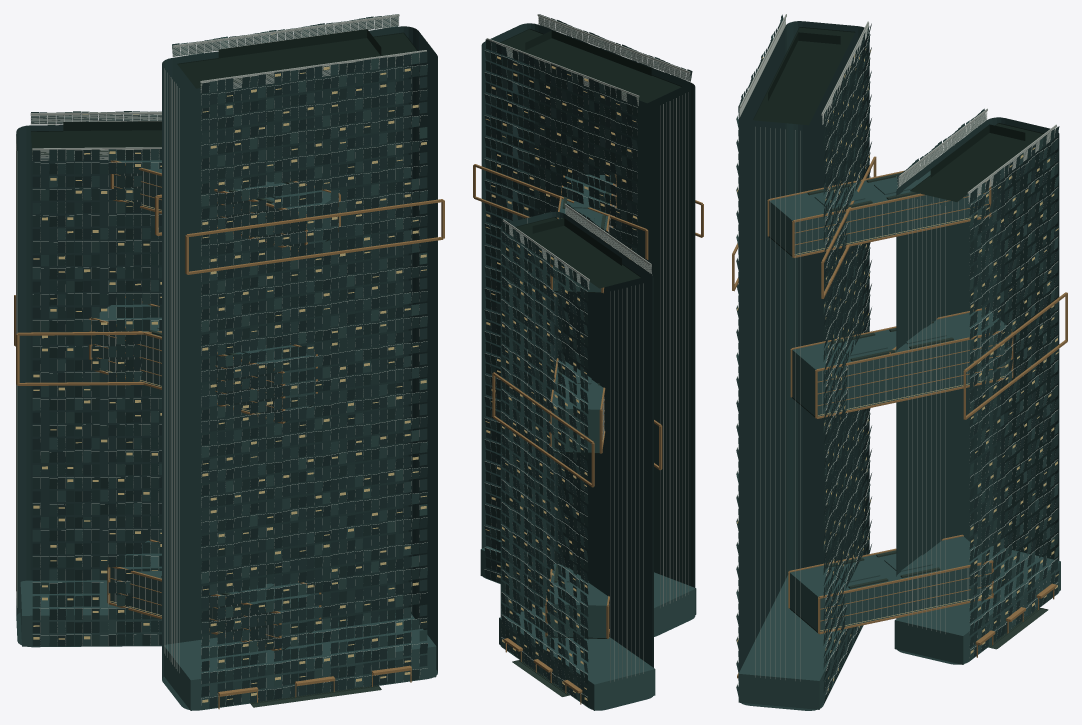
Rendered from tencent-binhai.glb.
3 views of the same model, side by side, from view 1: azimuth 30°, elevation 25°; view 2: azimuth 150°, elevation 25°; view 3: azimuth 270°, elevation 25° (orthographic). The views are drawn at different scales.
Visible parts, largest first — view 1: Staggered_panels.001, Tower_envelope, Staggered_panels, Lobby_glass, Panel_edges, End_mullions, Roof_service, Panel_shading, Night_windows, Health_link_glass, Roof_louvers, Tower_portal_sleeves (+8 smaller); view 2: Tower_envelope, Staggered_panels.001, Staggered_panels, End_mullions, Lobby_glass, Roof_service, Roof_deck, Roof_louvers, Panel_edges, Panel_shading, Tower_portal_sleeves, Health_link_glass (+8 smaller); view 3: Tower_envelope, Staggered_panels.001, Lobby_glass, Staggered_panels, Health_link_glass, Podium_link_glass, End_mullions, Knowledge_link_glass, Roof_service, Bridge_portals, Panel_shading, Roof_deck (+12 smaller).
Boxes of the visible parts, <box> form: Staggered_panels.001: <box>31,14,427,708</box>; Tower_envelope: <box>16,26,437,710</box>; Staggered_panels: <box>32,15,427,709</box>; Lobby_glass: <box>20,580,436,710</box>; Panel_edges: <box>40,18,420,705</box>; End_mullions: <box>16,41,432,672</box>; Roof_service: <box>63,29,381,147</box>; Panel_shading: <box>33,27,427,698</box>; Night_windows: <box>33,33,426,702</box>; Health_link_glass: <box>92,298,315,418</box>; Roof_louvers: <box>30,16,419,160</box>; Tower_portal_sleeves: <box>14,194,444,385</box>; Tower_envelope: <box>481,23,695,710</box>; Staggered_panels.001: <box>484,14,692,706</box>; Staggered_panels: <box>484,16,686,701</box>; End_mullions: <box>527,92,688,682</box>; Lobby_glass: <box>480,540,696,710</box>; Roof_service: <box>525,30,651,273</box>; Roof_deck: <box>500,28,681,288</box>; Roof_louvers: <box>491,16,690,289</box>; Panel_edges: <box>489,20,692,704</box>; Panel_shading: <box>484,29,690,697</box>; Tower_portal_sleeves: <box>473,164,703,487</box>; Health_link_glass: <box>551,360,603,452</box>; Tower_envelope: <box>738,21,1059,710</box>; Staggered_panels.001: <box>736,14,1059,704</box>; Lobby_glass: <box>738,546,1060,709</box>; Staggered_panels: <box>736,18,1059,698</box>; Health_link_glass: <box>792,309,1010,416</box>; Podium_link_glass: <box>790,536,991,631</box>; End_mullions: <box>755,127,945,681</box>; Knowledge_link_glass: <box>769,170,988,255</box>; Roof_service: <box>768,32,1025,186</box>; Bridge_portals: <box>767,171,1013,634</box>; Panel_shading: <box>736,34,1057,694</box>; Roof_deck: <box>753,27,1043,201</box>.
Size of the model in its own units: 126 by 246 by 126.
